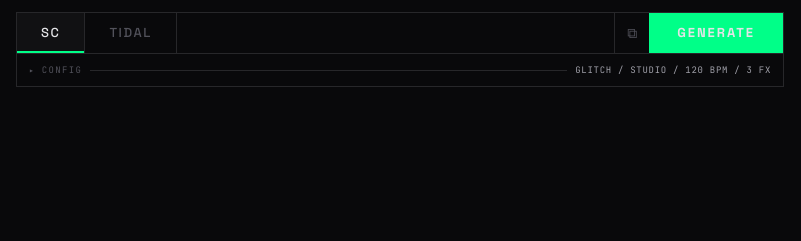
Test case: CodegenPanel › CONFIG drawer opens on click
What coordinates should you click on to do the following:
click the text "CONFIG"
I would click on:
 (62, 70)
Its box is [42,60,82,80].
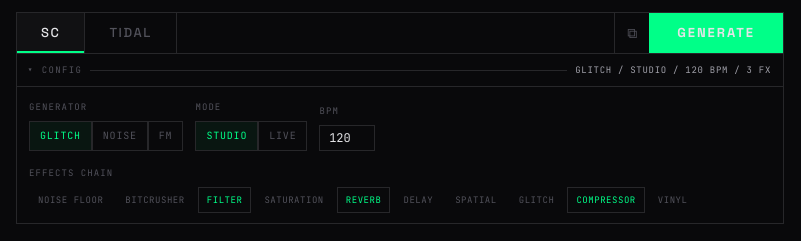
Check: the button "noise" is shown, box [92,121,148,151]
Check: the button "fm" is shown, box [148,121,183,151]
